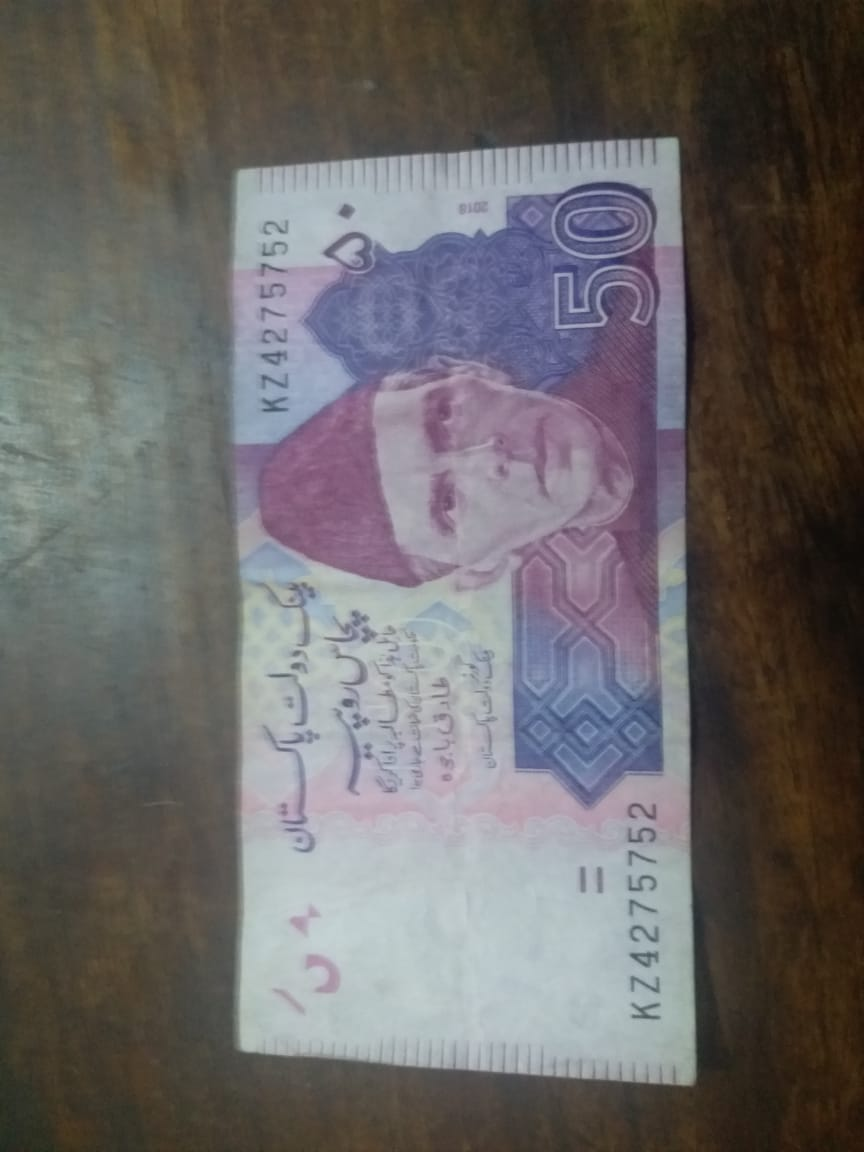50 rupee: (214, 110, 709, 1110)
